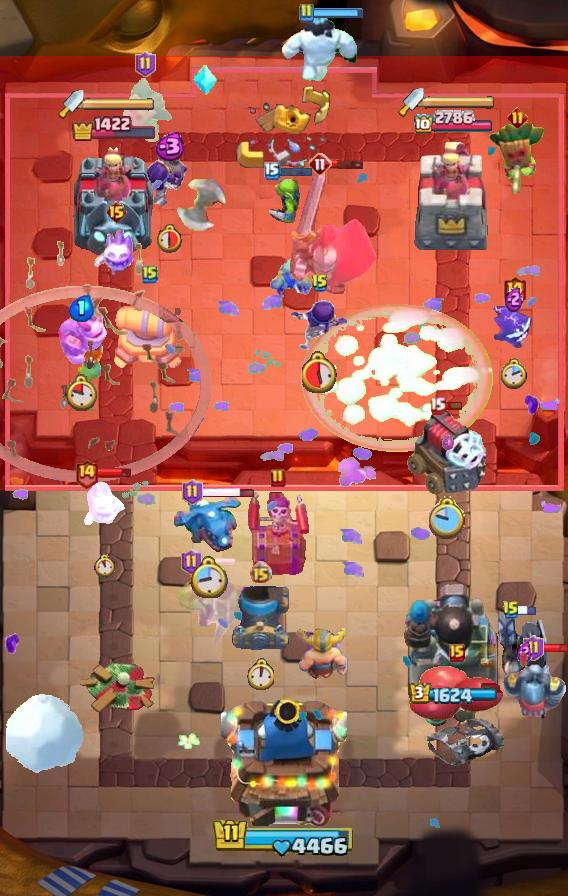bar: (70, 142, 158, 256), (412, 140, 494, 256)
barbarian-hut: (162, 563, 248, 649)
clock: (212, 817, 356, 859)
electro-spirit: (151, 131, 186, 160), (69, 294, 95, 322), (505, 284, 523, 311), (517, 641, 531, 664), (441, 435, 454, 451)
elixir: (429, 497, 467, 539), (190, 556, 228, 598), (302, 351, 338, 393), (66, 373, 98, 411), (246, 658, 274, 690), (501, 358, 528, 390), (154, 223, 182, 253), (93, 554, 116, 578)
elixir-golem-small: (502, 653, 568, 721), (55, 304, 109, 364)
emote: (200, 485, 255, 498), (312, 7, 364, 19), (200, 556, 237, 568), (329, 158, 365, 170), (96, 467, 132, 479), (279, 165, 314, 177), (540, 643, 567, 653), (443, 400, 463, 412), (518, 604, 537, 616)
goblin-ball: (290, 297, 350, 353), (146, 142, 190, 208)
goblin-barrel: (487, 120, 547, 196), (116, 77, 174, 147)
goblin-giant: (295, 628, 351, 682)
golem: (405, 408, 491, 498)
graveyard: (174, 490, 244, 554)
hog-rider: (70, 337, 108, 389)
inferno-dragon: (494, 608, 554, 702)
king-tower: (221, 690, 347, 826)
king-tower-bar: (424, 95, 496, 109), (84, 97, 156, 111)
mirror: (92, 229, 140, 277), (83, 478, 125, 528)
musketeer: (230, 586, 290, 650)
pad_2: (192, 64, 218, 96)
phoenix-big: (300, 302, 494, 454)
rage: (276, 13, 362, 81)
royal-giant: (173, 179, 239, 231)
royal-recruit: (113, 289, 187, 373)
royal-recruit-evolution: (406, 664, 508, 772)
selected: (70, 114, 157, 141), (414, 110, 495, 136), (410, 683, 499, 706)
skeleton-barrel: (1, 239, 212, 483)
skeleton-king-bar: (247, 489, 309, 575)
spear-goblin: (493, 306, 535, 352)
text: (502, 275, 527, 306), (73, 459, 98, 490), (308, 152, 332, 176), (104, 200, 127, 224), (248, 560, 271, 584), (135, 51, 156, 77), (181, 479, 202, 505), (181, 549, 202, 575), (524, 635, 545, 661), (508, 107, 529, 128), (311, 273, 329, 293), (502, 600, 520, 620), (298, 3, 314, 23), (142, 264, 158, 284), (270, 468, 286, 488), (430, 397, 447, 415), (264, 162, 280, 180), (449, 644, 465, 662)
tower-bar: (402, 579, 504, 731)
wall-breaker: (4, 692, 86, 774)
wall-breaker-evolution: (287, 166, 379, 300)
zap: (264, 169, 306, 227), (269, 255, 313, 297)
